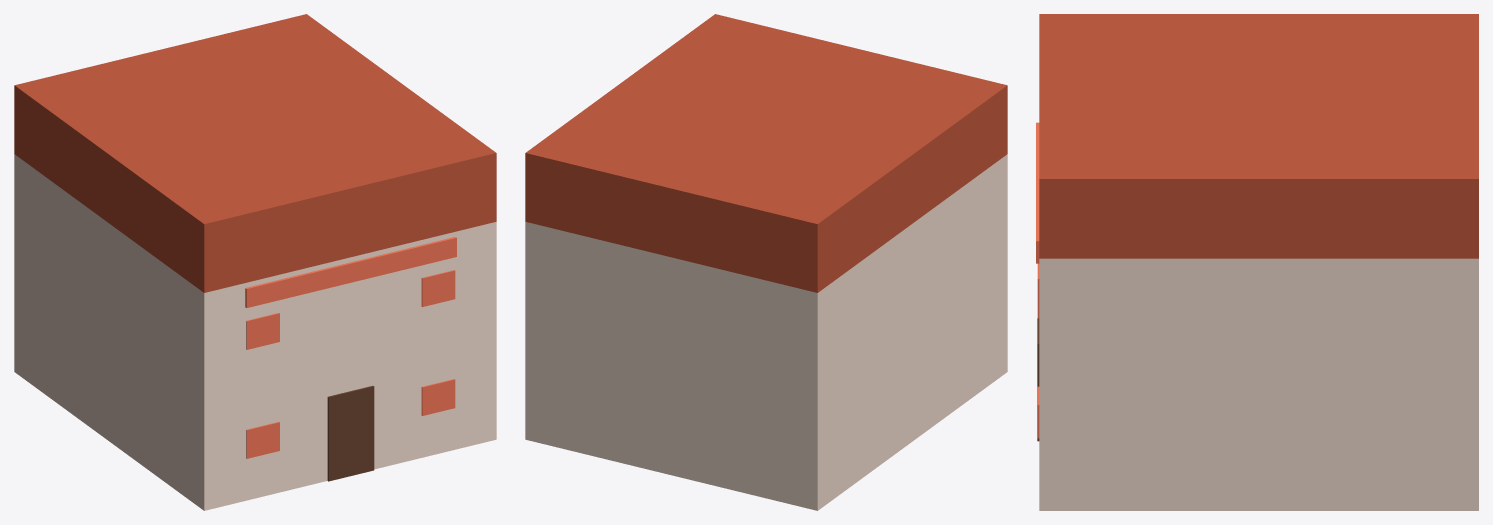
The model's file is gedung_gor.fbx.
3 views of the same model, side by side, from view 1: azimuth 30°, elevation 25°; view 2: azimuth 150°, elevation 25°; view 3: azimuth 270°, elevation 25° (orthographic). The views are drawn at different scales.
Visible parts, largest first — view 1: gedung_gor; view 2: gedung_gor; view 3: gedung_gor.
Boxes of the visible parts, bbox=[...] form: gedung_gor: bbox=[14, 14, 496, 510]; gedung_gor: bbox=[525, 14, 1007, 510]; gedung_gor: bbox=[1036, 14, 1478, 510].
Size of the model in its own units: 800 by 750 by 907.
Materials: 1 (1 with a texture image).
